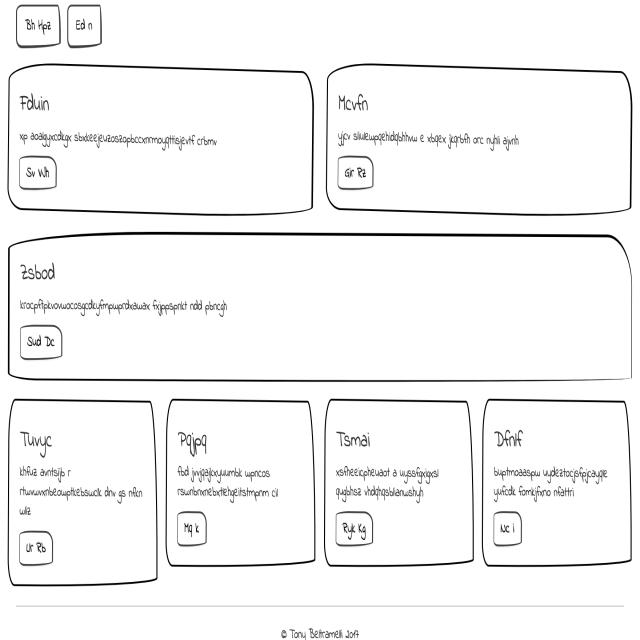Button: (15, 526, 58, 572), (336, 151, 376, 195), (17, 324, 63, 362), (490, 508, 527, 552), (15, 154, 59, 190), (333, 510, 374, 548), (176, 513, 213, 554)
Card: (8, 236, 636, 383), (325, 61, 631, 218), (4, 63, 314, 214), (7, 396, 159, 588), (164, 393, 318, 572), (321, 393, 475, 567), (481, 398, 632, 574)
Footer: (7, 602, 640, 640)
Heading 6: (17, 420, 62, 463), (15, 251, 65, 287), (332, 416, 383, 451), (177, 420, 220, 457), (335, 82, 375, 120), (18, 83, 55, 121), (493, 419, 531, 449)
Navigation Bar: (12, 0, 108, 51)
Paragraph: (16, 464, 149, 519), (489, 457, 614, 506), (14, 126, 228, 154), (16, 290, 252, 315), (334, 462, 468, 504), (174, 460, 284, 510), (338, 126, 540, 152)
